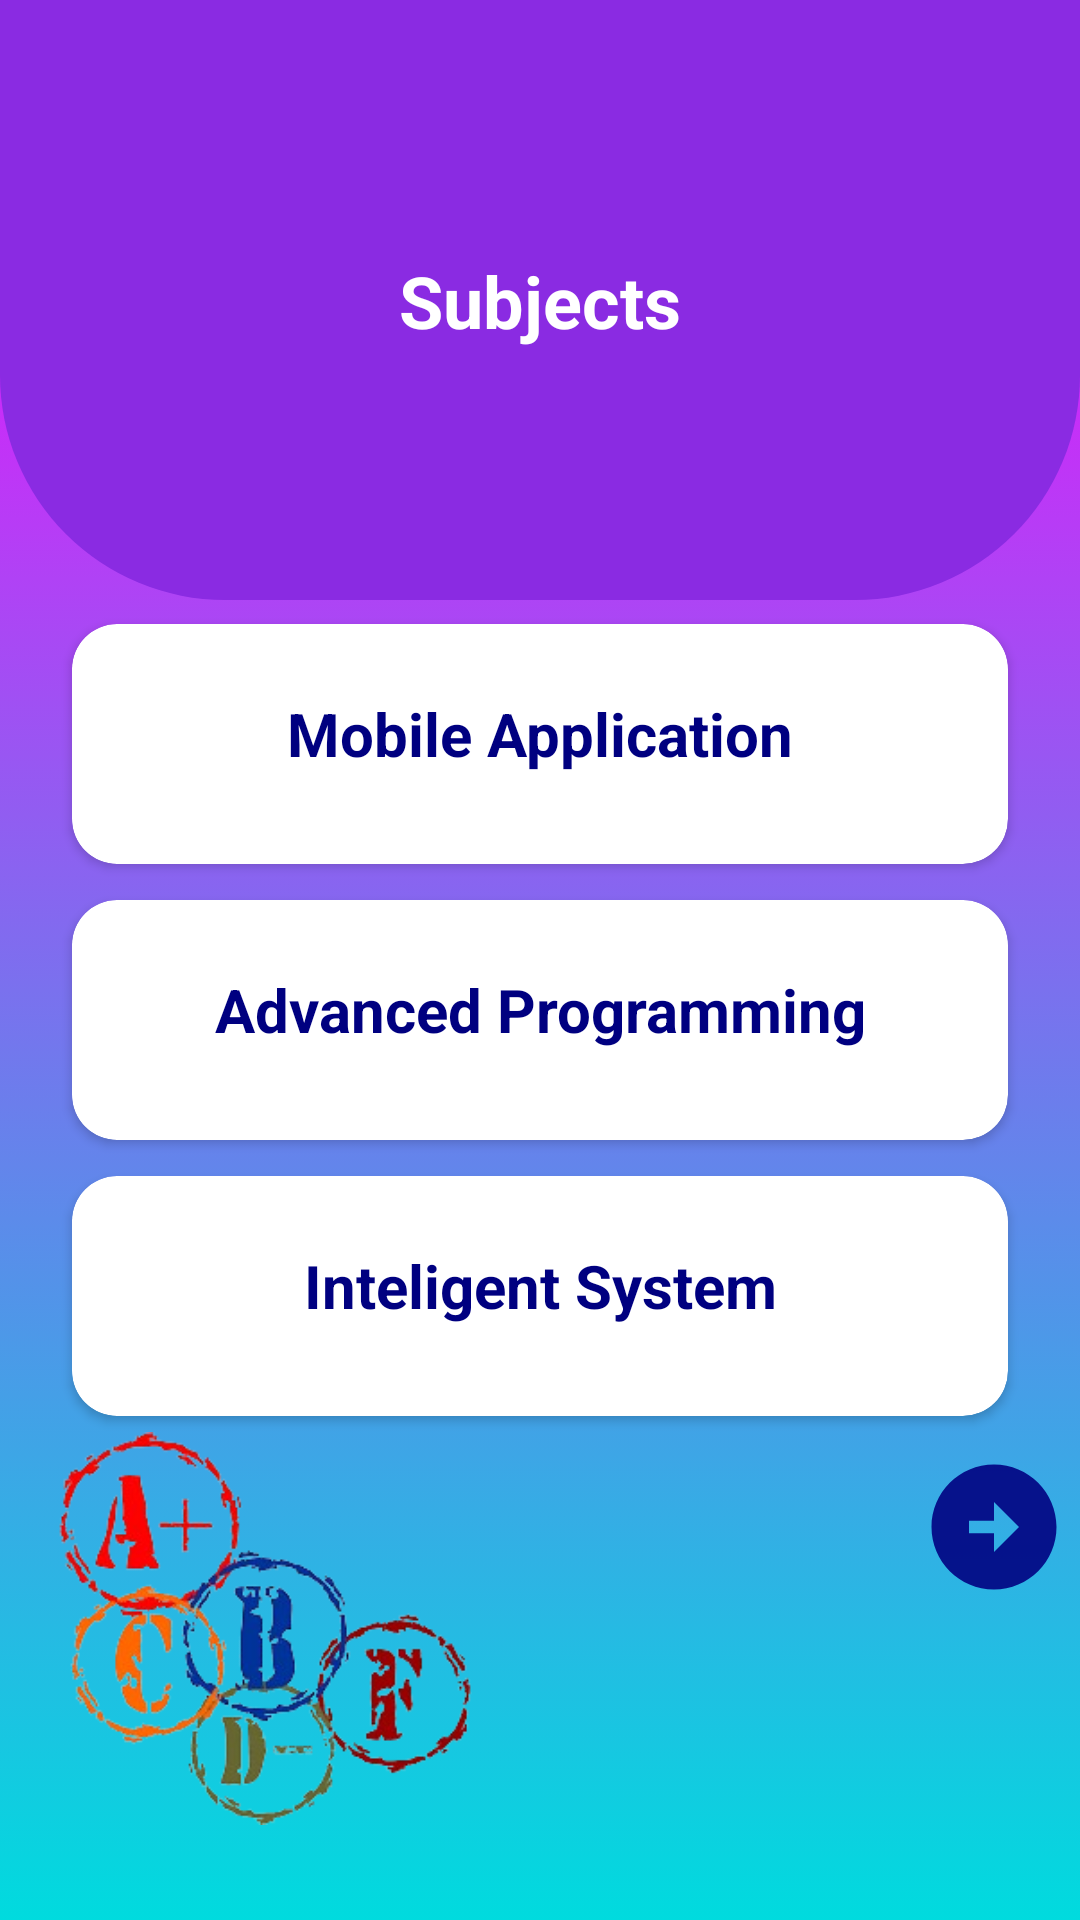

Icons on this 1080 x 1920 Android screen, each with the point to tap as [x,y]:
next: [994,1527]
